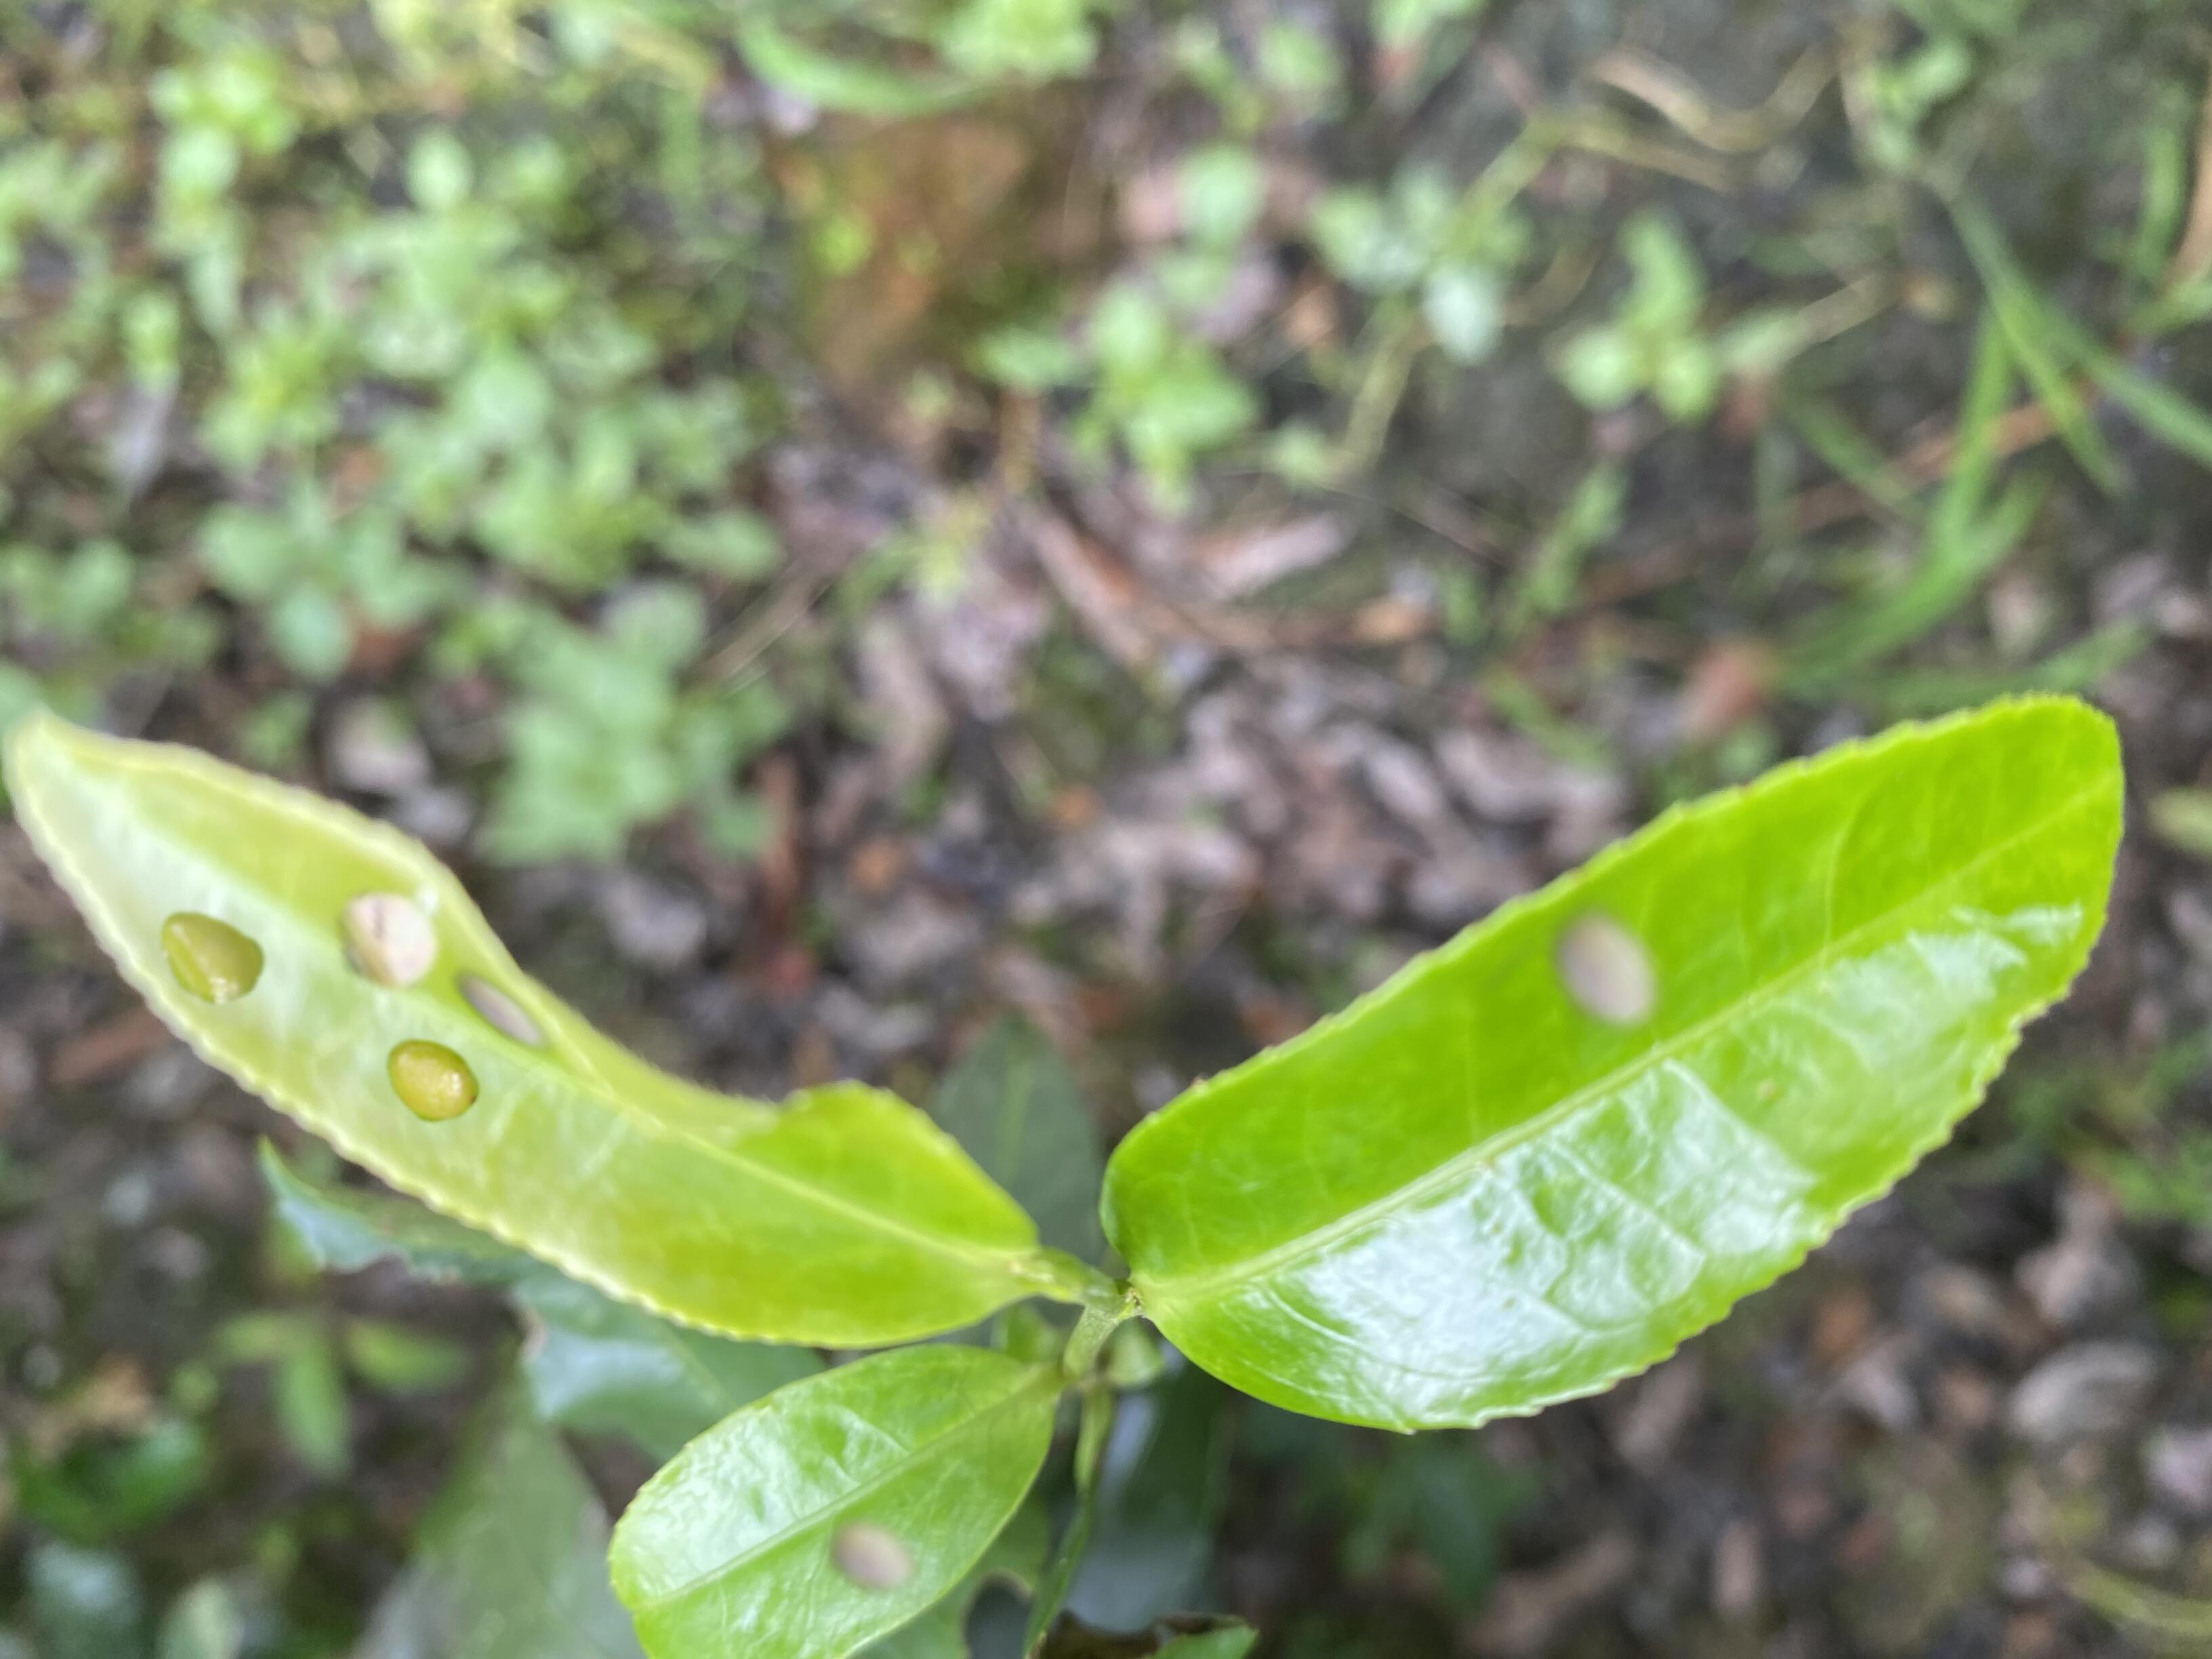chabing_high: (9, 709, 1047, 1351)
chabing_low: (1097, 692, 2127, 1439), (608, 1351, 1064, 1656)
